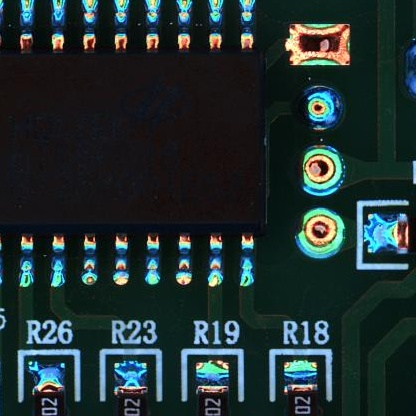spot: (286, 22, 351, 68), (295, 208, 346, 259), (297, 144, 346, 195), (295, 85, 345, 130)
